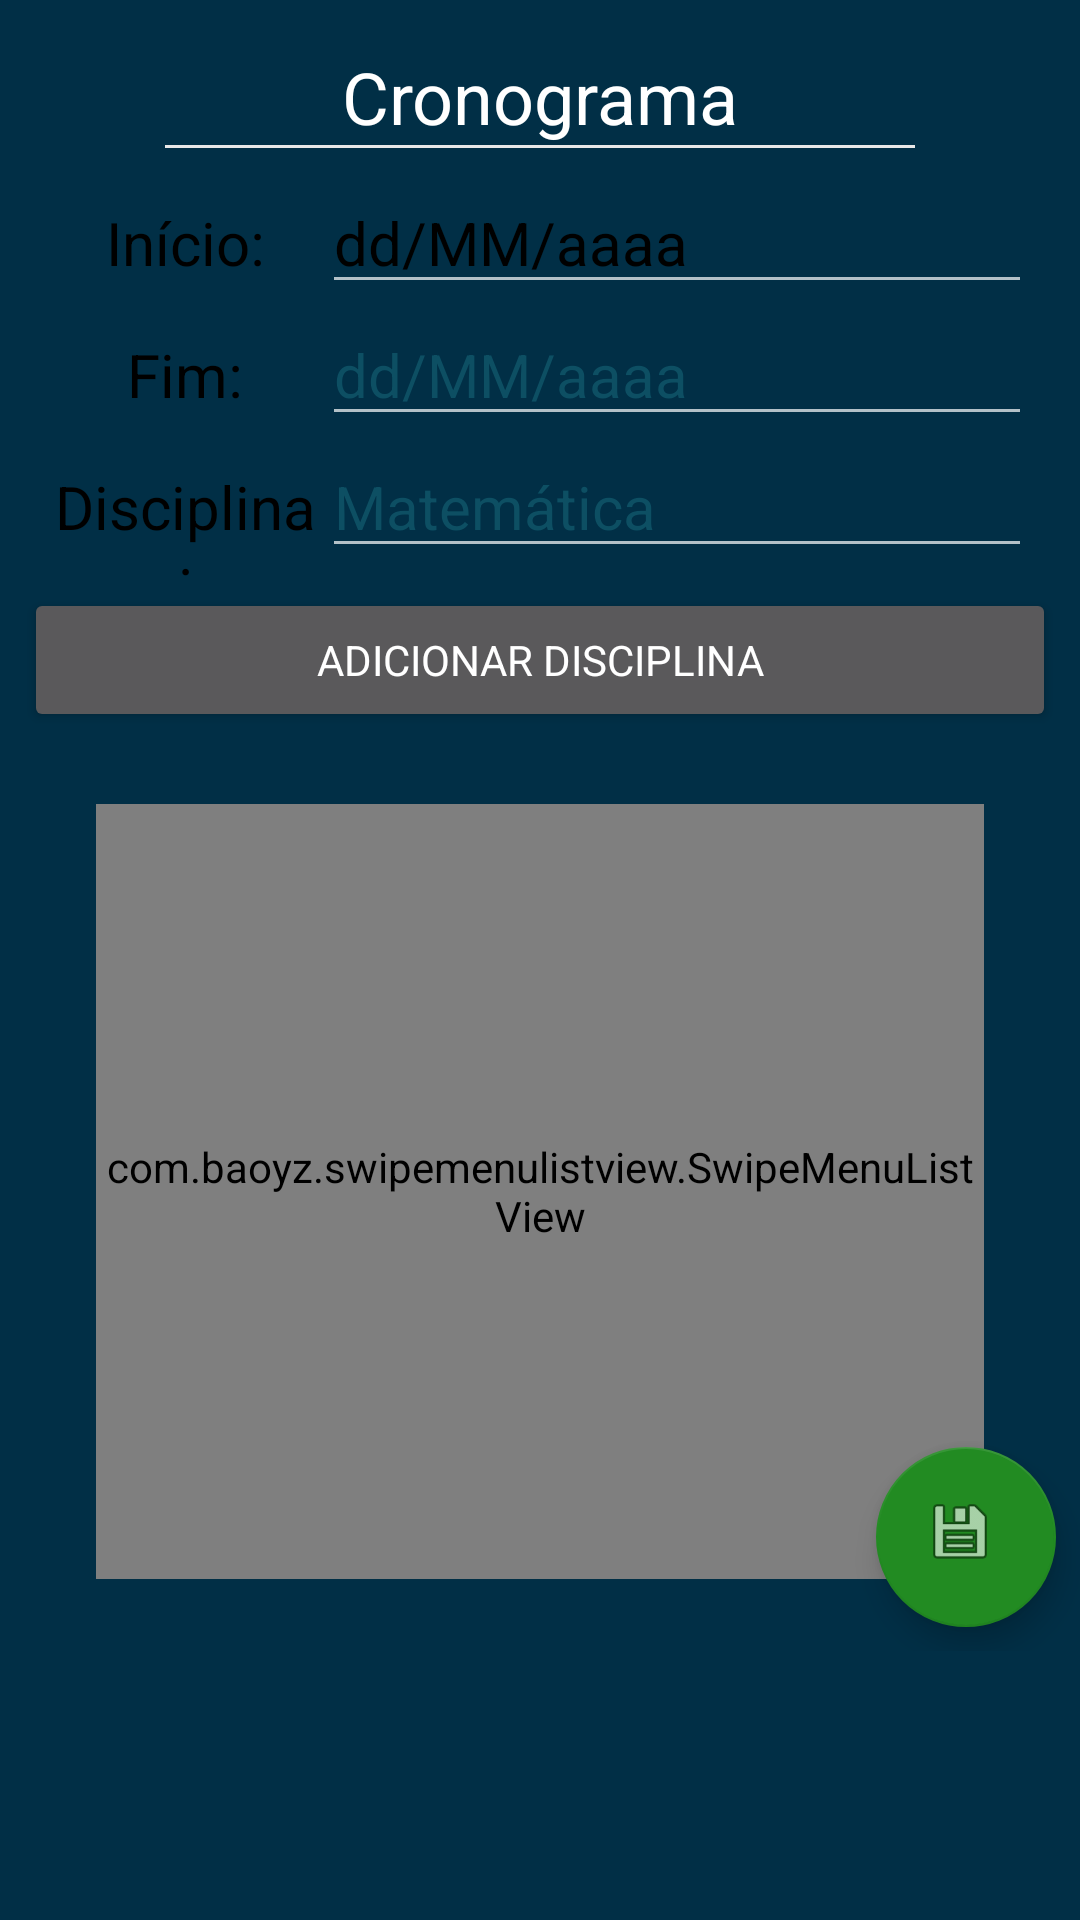

Screen size 1080x1920. Icon name, then its box in pixels as (x1, y1, x2, y2):
save: (876, 1447, 1056, 1627)
